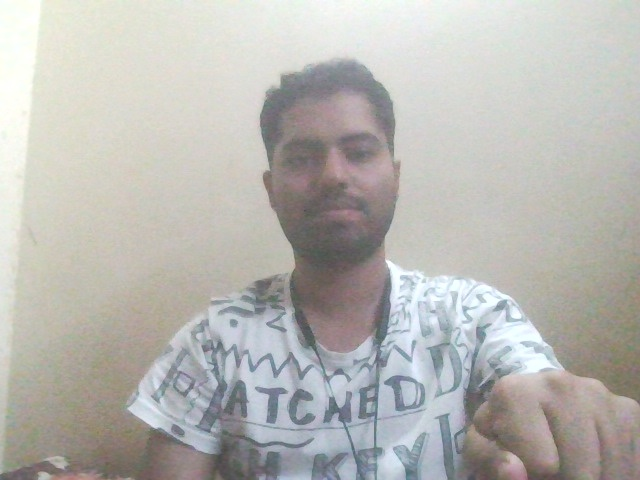Thanks: (459, 359, 640, 480)
